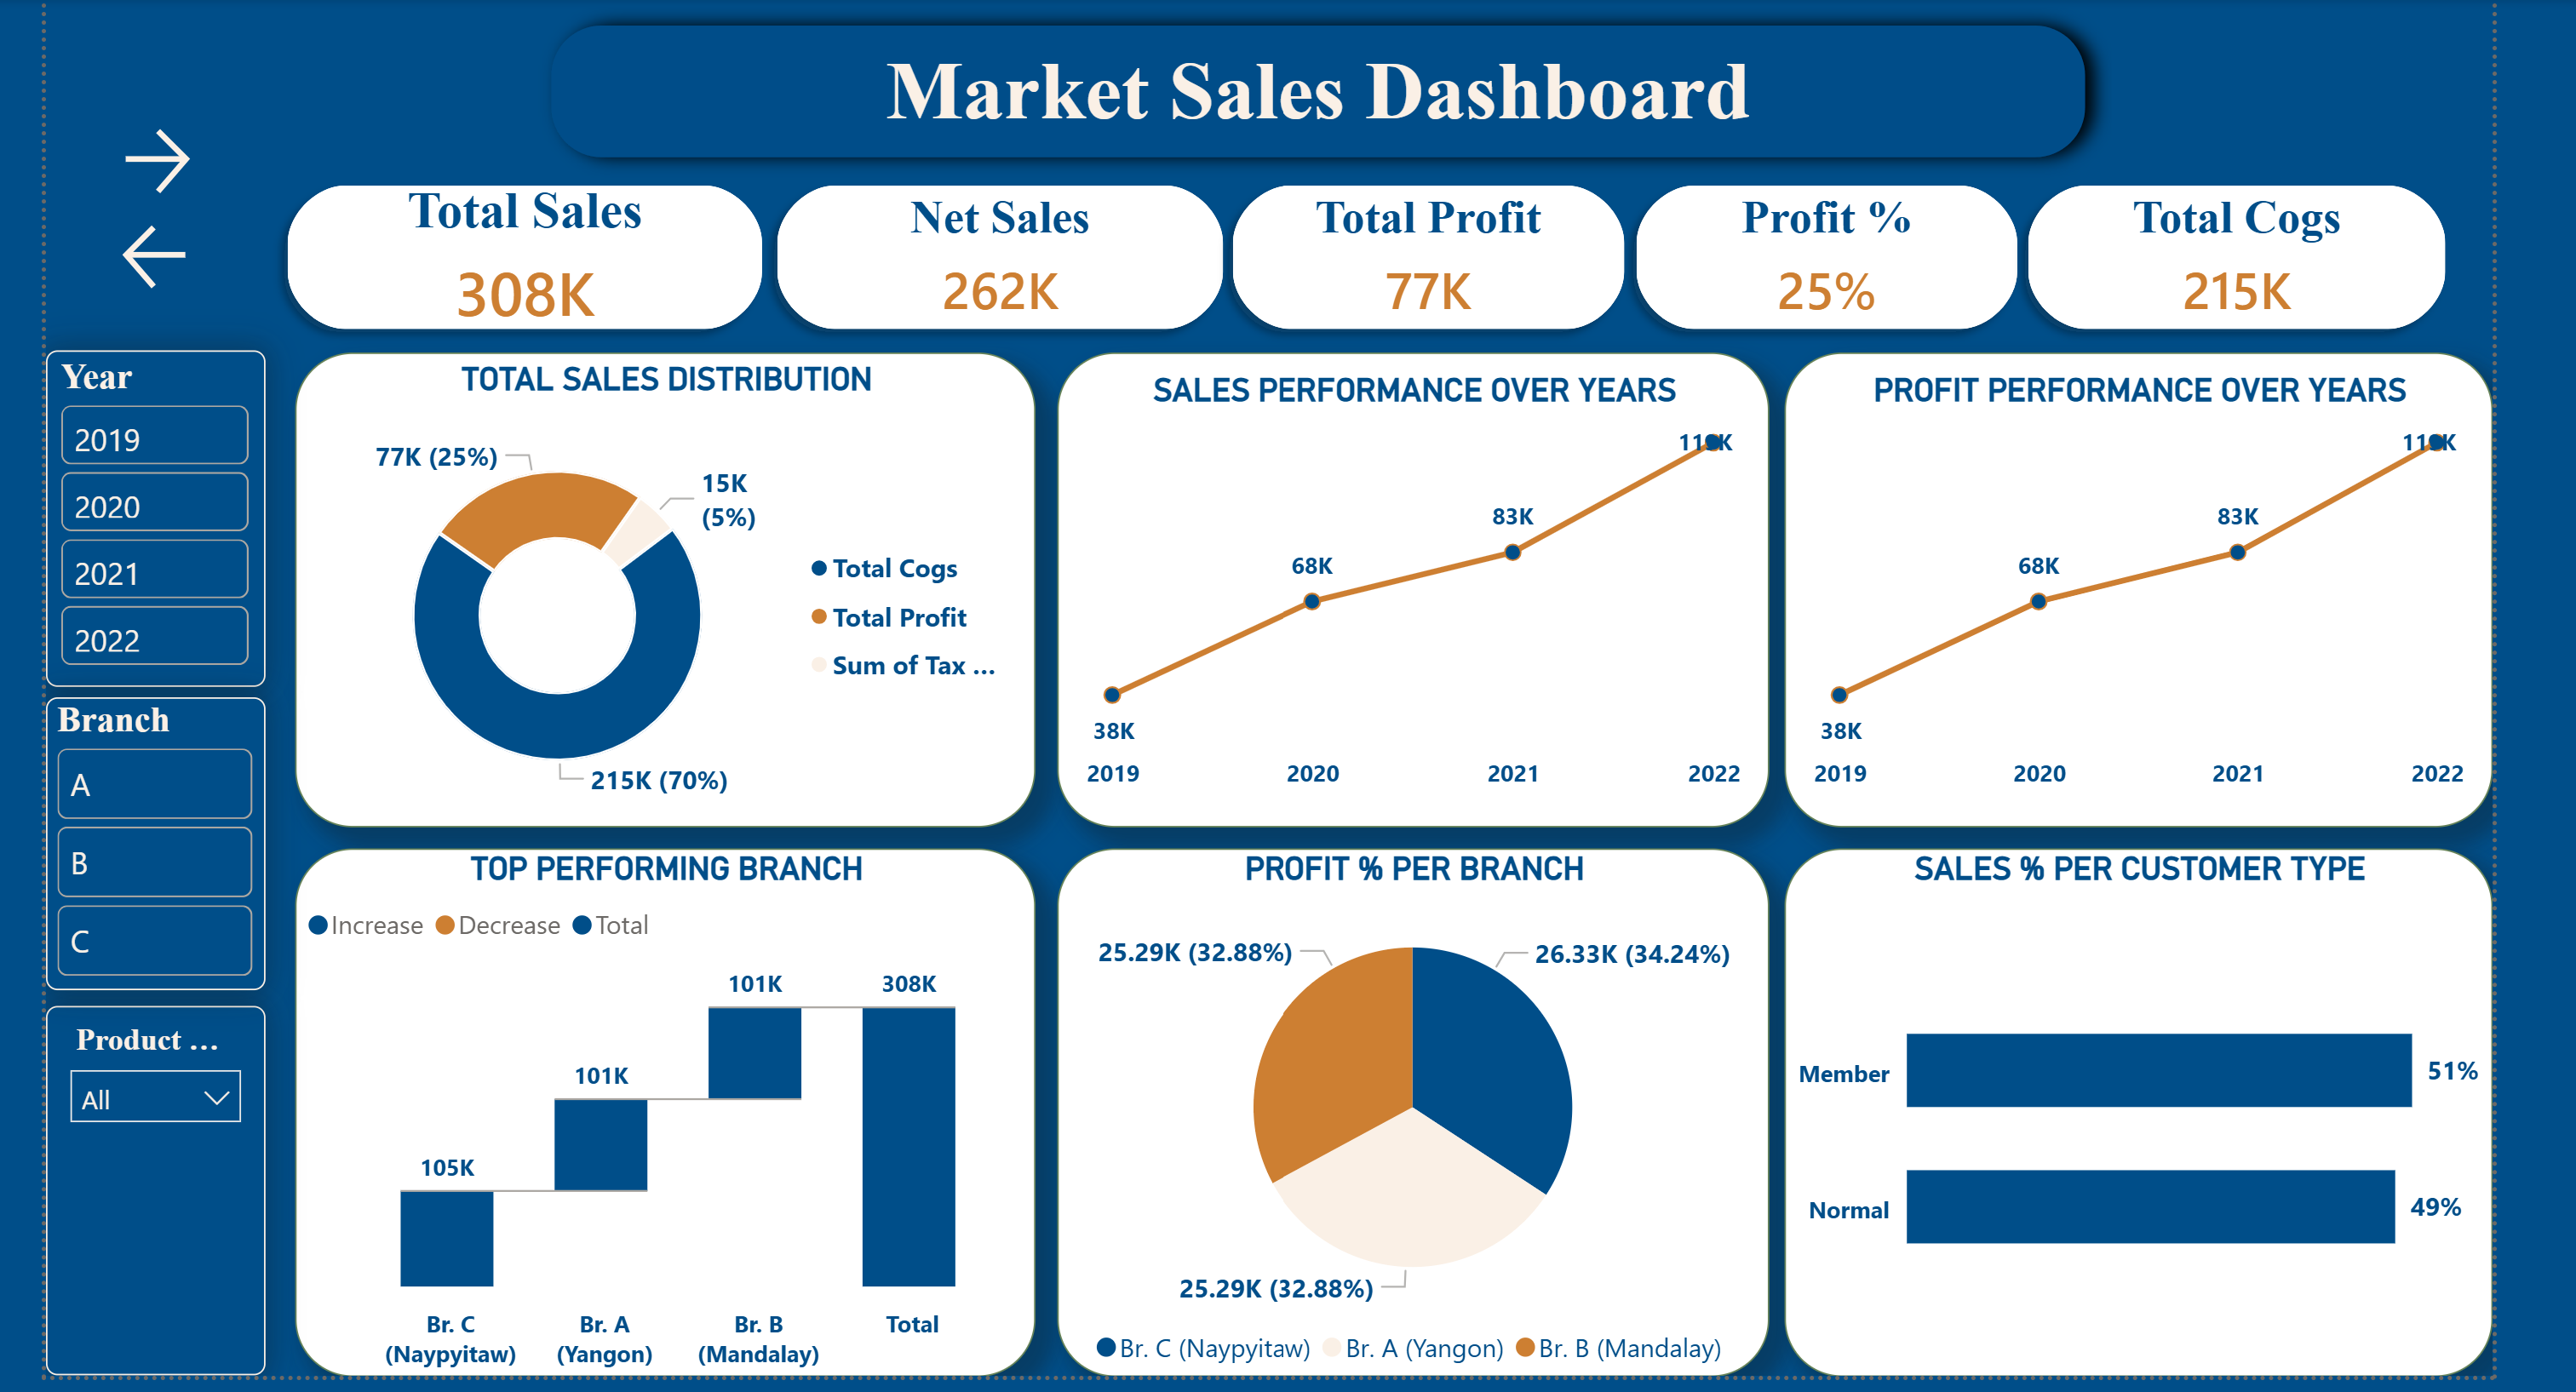

What the dashboard file says about the page in this screenshot:
{"tool":"powerbi","page":{"name":"Dashboard1","canvas":[1280,720],"ordinal":1},"visuals":[{"type":"shape","box":[250.9,0,830,96.5],"z":0},{"type":"cardVisual","fields":{"Data":["Data.Total Sales"]},"box":[102.5,73.6,296.8,123.1],"z":1000},{"type":"cardVisual","fields":{"Data":["Data.Net Sales"]},"box":[358.3,73.6,281.1,123.1],"z":2000},{"type":"cardVisual","fields":{"Data":["Data.Total Profit"]},"box":[597.2,73.6,253.4,123.1],"z":3000},{"type":"cardVisual","fields":{"Data":["Data.Profit %"]},"box":[808.3,73.6,247.3,123.1],"z":4000},{"type":"cardVisual","fields":{"Data":["Data.Total Cogs"]},"box":[1013.4,73.6,266.6,123.1],"z":5000},{"type":"donutChart","title":"TOTAL SALES DISTRIBUTION ","fields":{"Y":["Data.Total Cogs","Data.Total Profit","Sum(Data.Tax 5%)"]},"box":[130.3,184.6,387.3,248.5],"z":6000},{"type":"lineChart","title":"SALES PERFORMANCE OVER YEARS","fields":{"Y":["Sum(Data.Total)"],"Category":["Data.Year"]},"box":[528.4,184.6,372.8,248.5],"z":7000},{"type":"lineChart","title":"PROFIT PERFORMANCE OVER YEARS","fields":{"Y":["Sum(Data.Total)"],"Category":["Data.Year"]},"box":[909.7,184.6,370.4,248.5],"z":8000},{"type":"waterfallChart","title":"TOP PERFORMING BRANCH","fields":{"Category":["Data.Branch City"],"Y":["Sum(Data.Total)"]},"box":[130.3,444,387.3,276.3],"z":9000},{"type":"pieChart","title":"PROFIT % PER BRANCH","fields":{"Category":["Data.Branch City"],"Y":["Sum(Data.Net Profit)"]},"box":[528.4,444,372.8,276.3],"z":10000},{"type":"barChart","title":"SALES % PER CUSTOMER TYPE","fields":{"Y":["Sum(Data.Total)"],"Category":["Data.Customer type"]},"box":[909.7,444,370.4,276.3],"z":11000},{"type":"slicer","fields":{"Values":["Data.Product line"]},"box":[0,527,114.6,193],"z":12000},{"type":"advancedSlicerVisual","fields":{"Values":["Data.Year"]},"box":[0,183.4,114.6,176.1],"z":13000},{"type":"advancedSlicerVisual","fields":{"Values":["Data.Branch"]},"box":[0,365.6,114.6,153.2],"z":14000},{"type":"actionButton","box":[18.1,48.3,79.6,73.6],"z":15000},{"type":"actionButton","box":[13.3,97.7,88.1,73.6],"z":16000}]}

Visuals, with their boxes on the page's 1280x720 design canvas (x1, y1, x2, y2). These are canvas units, not pixel positions in the 2576x1392 screenshot, which may show the page scaled, cropped or inside an application window:
shape: BBox(251, 0, 1081, 96)
cardVisual - Data.Total Sales: BBox(102, 74, 399, 197)
cardVisual - Data.Net Sales: BBox(358, 74, 639, 197)
cardVisual - Data.Total Profit: BBox(597, 74, 851, 197)
cardVisual - Data.Profit %: BBox(808, 74, 1056, 197)
cardVisual - Data.Total Cogs: BBox(1013, 74, 1280, 197)
"TOTAL SALES DISTRIBUTION " donutChart: BBox(130, 185, 518, 433)
"SALES PERFORMANCE OVER YEARS" lineChart: BBox(528, 185, 901, 433)
"PROFIT PERFORMANCE OVER YEARS" lineChart: BBox(910, 185, 1280, 433)
"TOP PERFORMING BRANCH" waterfallChart: BBox(130, 444, 518, 720)
"PROFIT % PER BRANCH" pieChart: BBox(528, 444, 901, 720)
"SALES % PER CUSTOMER TYPE" barChart: BBox(910, 444, 1280, 720)
slicer - Data.Product line: BBox(0, 527, 115, 720)
advancedSlicerVisual - Data.Year: BBox(0, 183, 115, 360)
advancedSlicerVisual - Data.Branch: BBox(0, 366, 115, 519)
actionButton: BBox(18, 48, 98, 122)
actionButton: BBox(13, 98, 101, 171)
